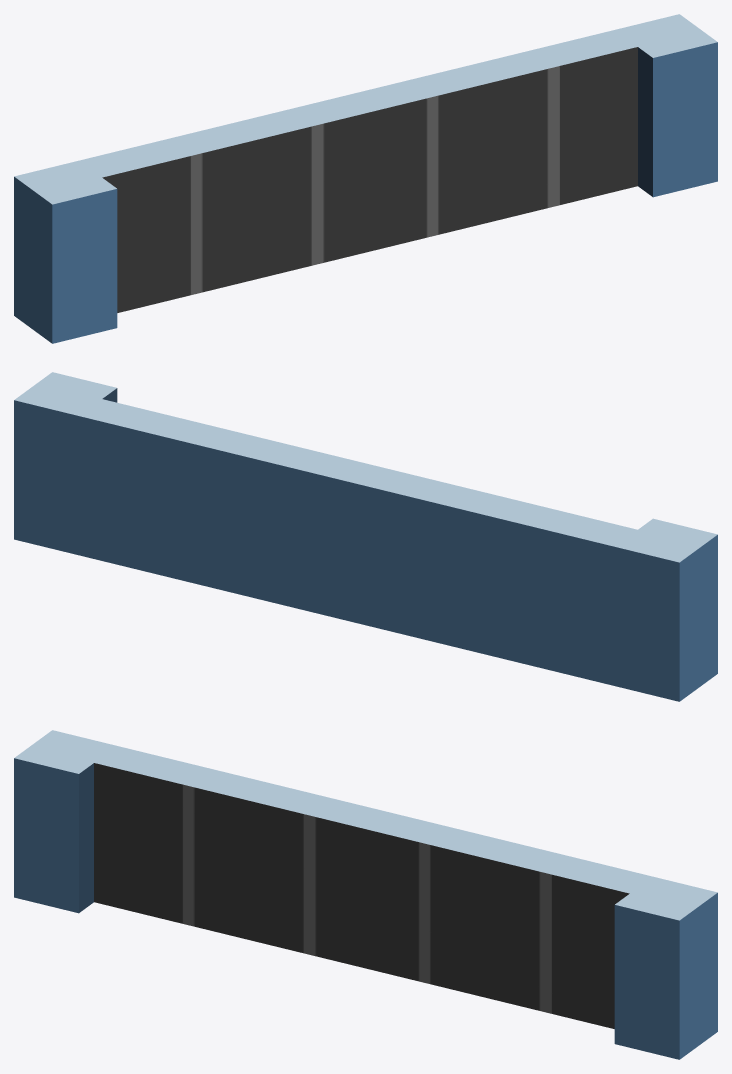
Rendered from office_window.fbx.
3 renders of one model, top to bottom at view 1: azimuth 30°, elevation 25°; view 2: azimuth 150°, elevation 25°; view 3: azimuth 330°, elevation 25°, orthographic.
Parts seen in each view (by area): view 1: office_small_mesh; view 2: office_small_mesh; view 3: office_small_mesh.
Boxes of the visible parts, x1,y1,x2,y2 form: office_small_mesh: (14, 14, 717, 343); office_small_mesh: (14, 372, 717, 701); office_small_mesh: (14, 730, 717, 1059).
Size of the model in its own units: 10 by 2 by 1.
1 material, 1 textured.
